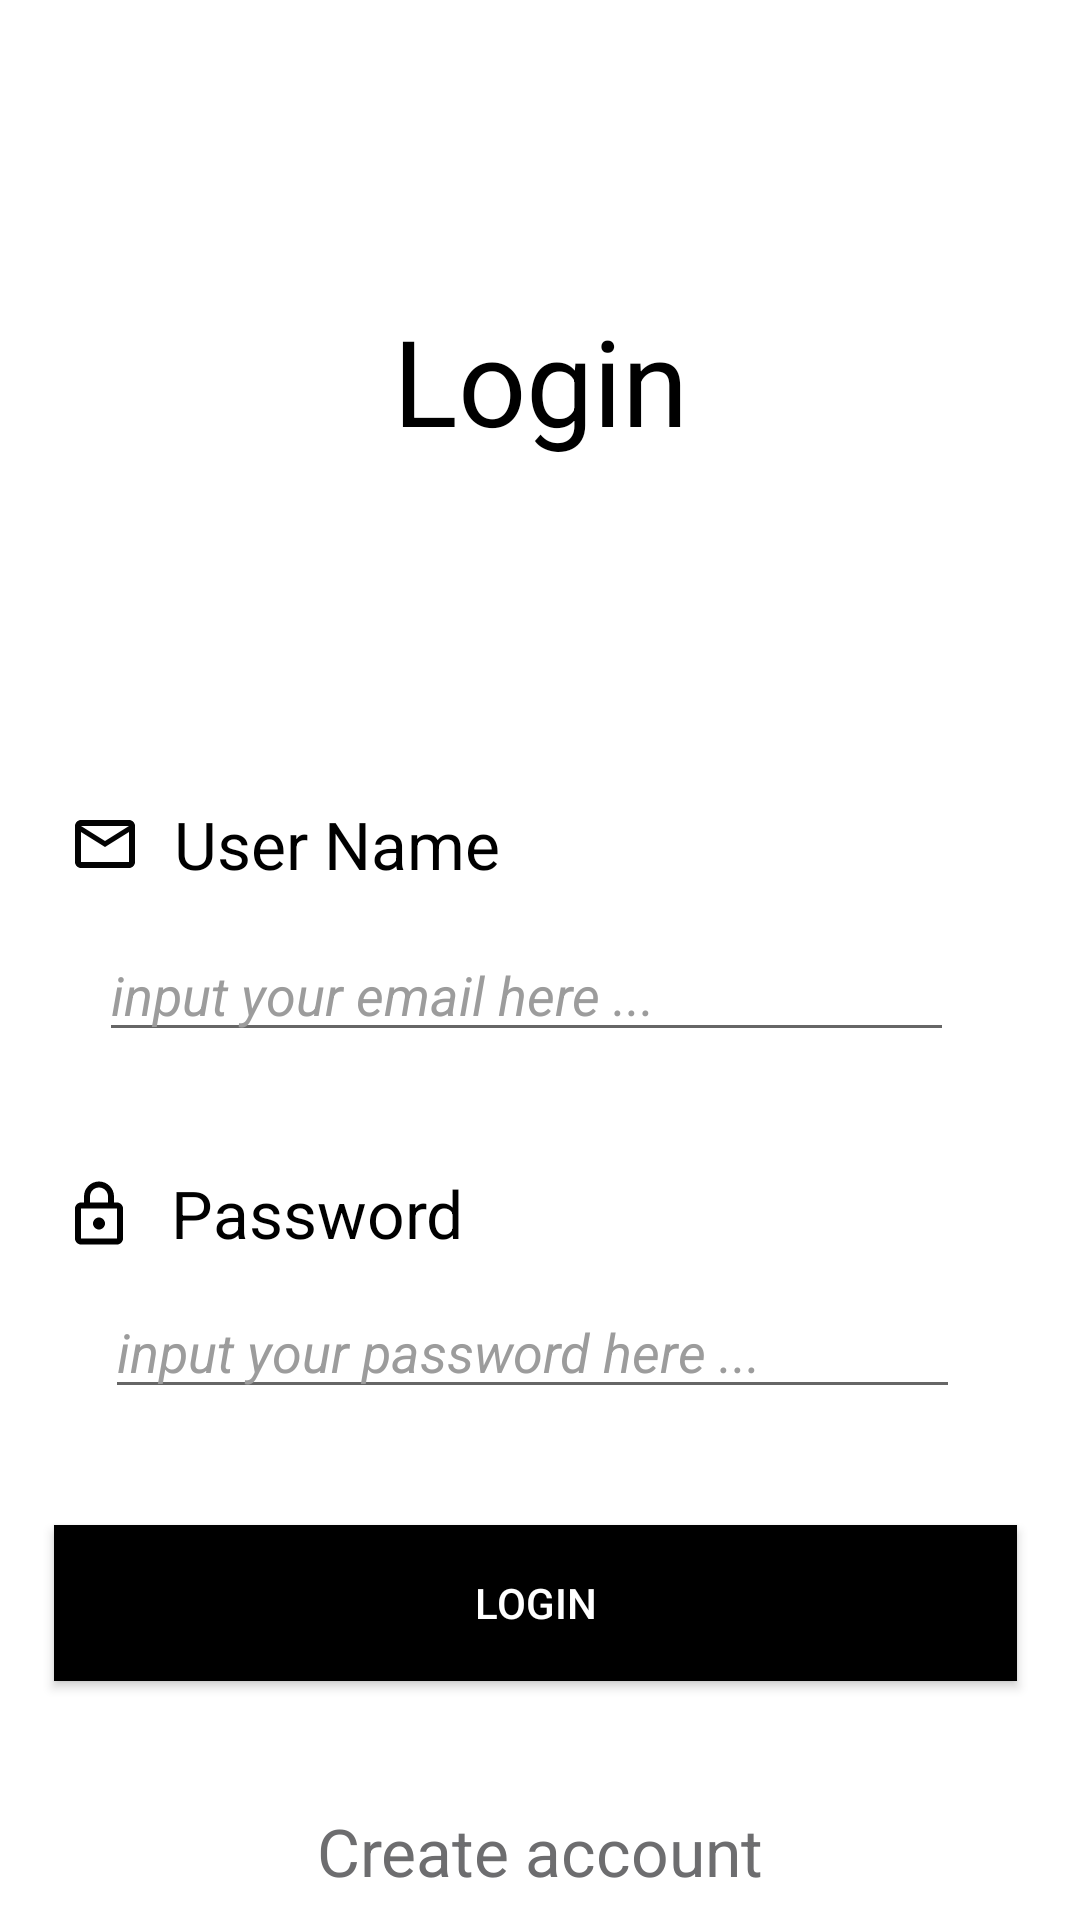

Icon click points for this 1080 x 1920 phone screenshot, format point (x, y):
lock: point (99, 1213)
mail: point (105, 844)
